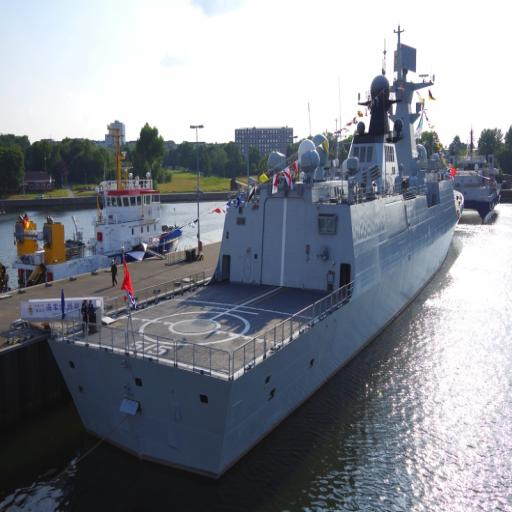Fragata: (41, 16, 470, 485)
